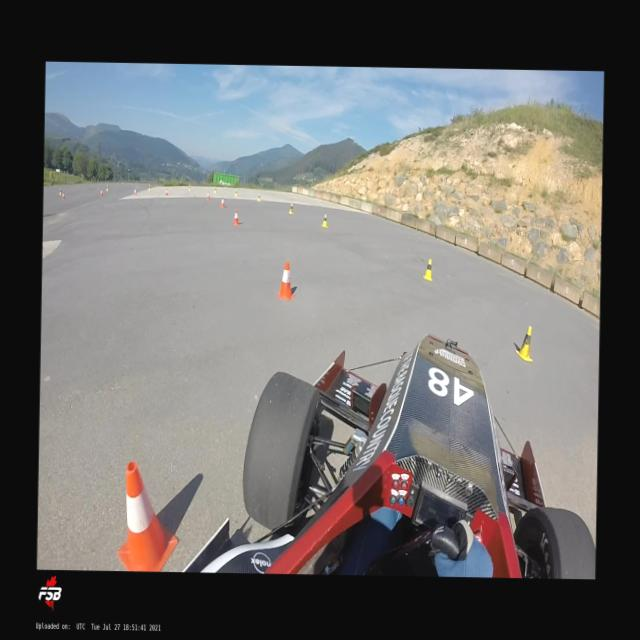orange_cone: (116, 462, 180, 572), (275, 261, 295, 300), (233, 210, 240, 224), (220, 198, 224, 208), (206, 191, 209, 199), (133, 188, 136, 195), (165, 188, 168, 195), (61, 192, 64, 198), (100, 190, 102, 196)
yellow_cone: (515, 325, 533, 361), (423, 258, 432, 282), (320, 214, 328, 226), (288, 202, 293, 214), (256, 193, 260, 201), (58, 188, 62, 195), (234, 188, 237, 196), (188, 184, 190, 190), (106, 185, 108, 191), (148, 184, 150, 190), (214, 186, 216, 192)
